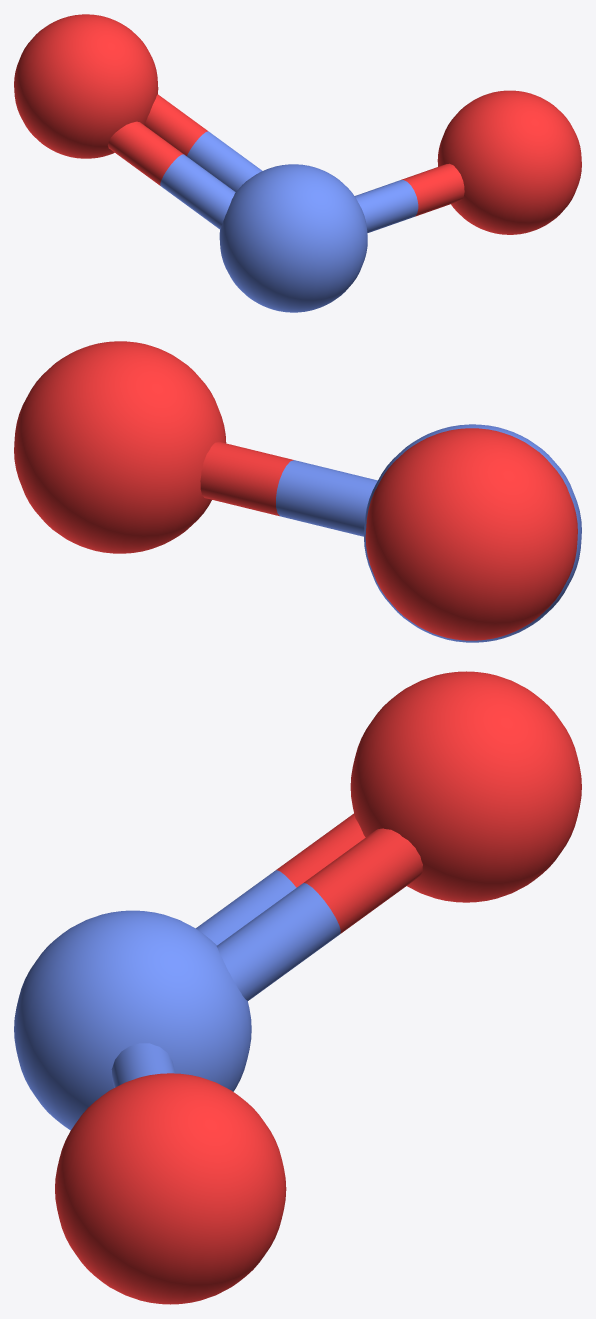
The model's file is Nitrogen dioxide.fbx.
3 renders of one model, top to bottom at view 1: azimuth 30°, elevation 25°; view 2: azimuth 150°, elevation 25°; view 3: azimuth 270°, elevation 25°, orthographic. The views are drawn at different scales.
Parts seen in each view (by area): view 1: Nitrogen dioxide; view 2: Nitrogen dioxide; view 3: Nitrogen dioxide.
Boxes of the visible parts, x1,y1,x2,y2 form: Nitrogen dioxide: [14, 14, 581, 312]; Nitrogen dioxide: [14, 341, 581, 642]; Nitrogen dioxide: [14, 671, 581, 1304].
Size of the model in its own units: 266 by 130 by 179.
